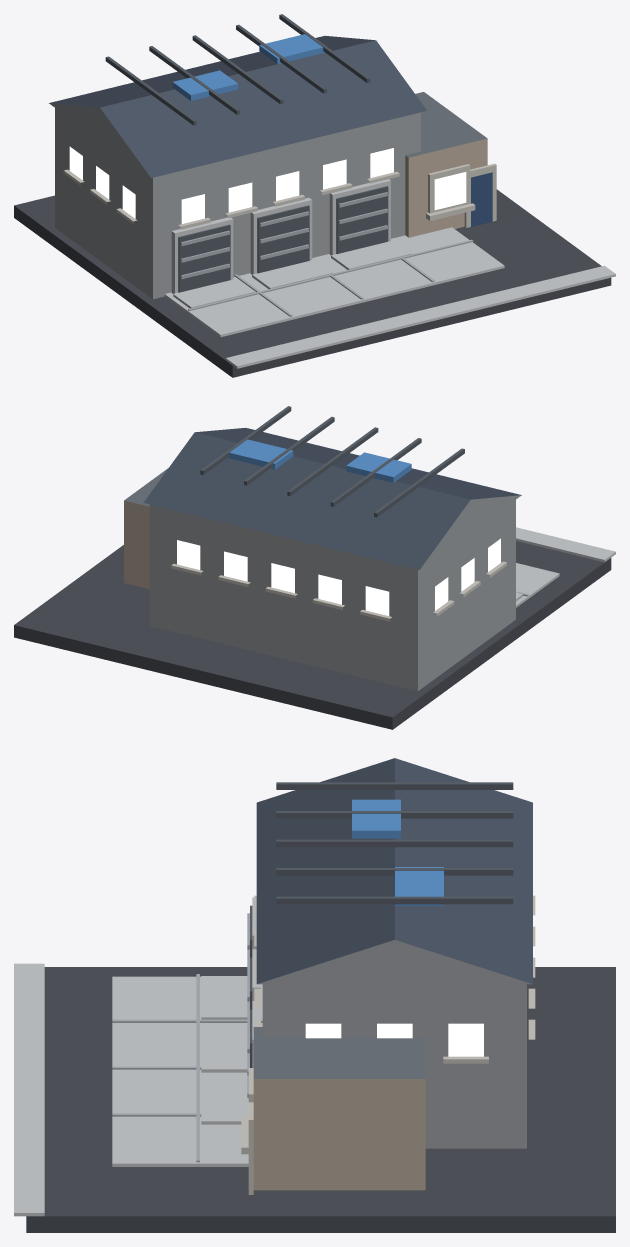
The picture shows the model from 3 angles, top to bottom: view 1: azimuth 30°, elevation 25°; view 2: azimuth 150°, elevation 25°; view 3: azimuth 270°, elevation 25°; orthographic projection. The views are drawn at different scales.
Parts seen in each view (by area): view 1: b33_v2_lod1; view 2: b33_v2_lod1; view 3: b33_v2_lod1.
Part boxes in pixels (left/top/right/bottom): b33_v2_lod1: left=14, top=14, right=615, bottom=377; b33_v2_lod1: left=14, top=406, right=615, bottom=729; b33_v2_lod1: left=14, top=758, right=615, bottom=1232.
Size of the model in its own units: 0.96 by 0.425 by 0.98.
